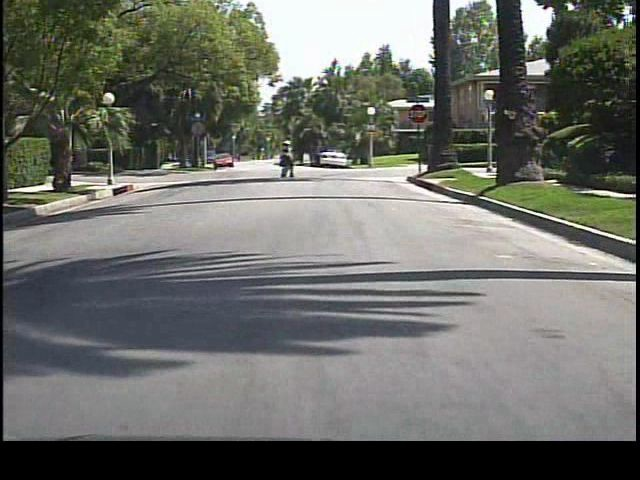person: (276, 136, 297, 181)
